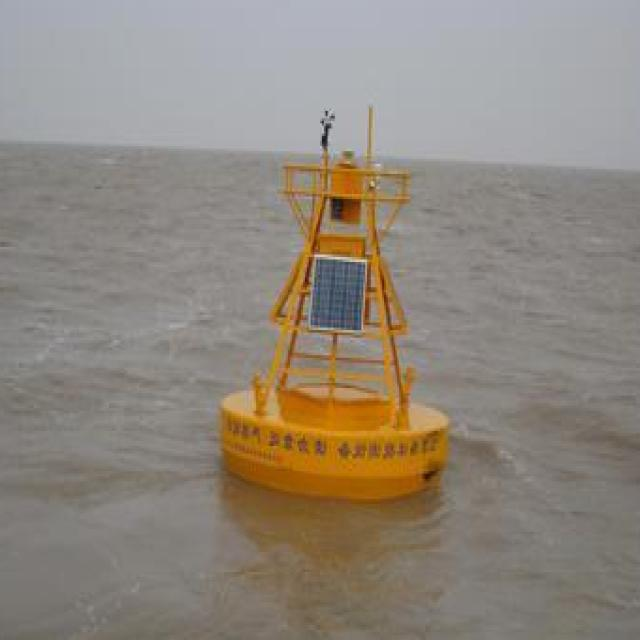buoy: (213, 98, 461, 490)
